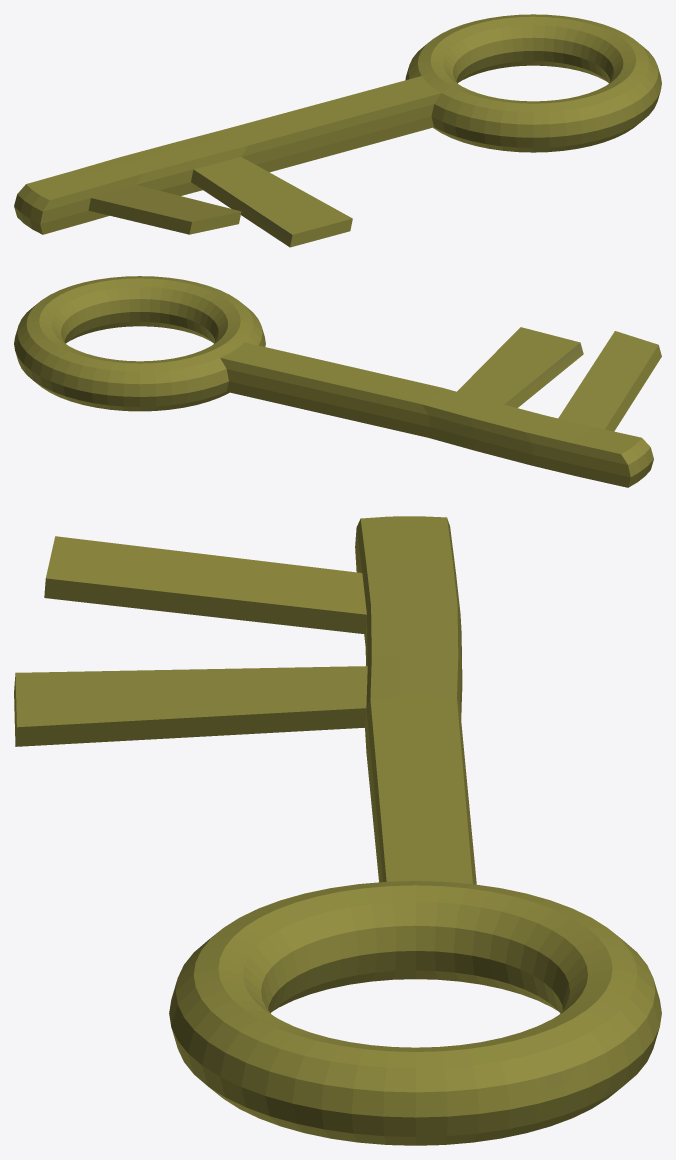
Rendered from goldkey.fbx.
The picture shows the model from 3 angles, top to bottom: view 1: azimuth 30°, elevation 25°; view 2: azimuth 150°, elevation 25°; view 3: azimuth 270°, elevation 25°; orthographic projection. The views are drawn at different scales.
Parts seen in each view (by area): view 1: Torus; view 2: Torus; view 3: Torus.
Boxes of the visible parts, x1,y1,x2,y2 form: Torus: (14, 14, 661, 247); Torus: (14, 276, 661, 487); Torus: (14, 516, 661, 1145).
Size of the model in its own units: 699 by 65.13 by 329.
